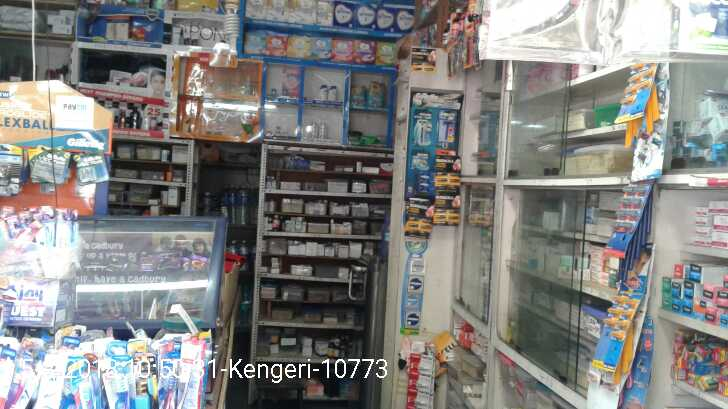beauty: (410, 109, 429, 145), (408, 155, 427, 190), (329, 82, 342, 105), (318, 115, 331, 138), (312, 84, 328, 102), (305, 120, 314, 142)
pharmacy: (367, 77, 387, 106), (351, 81, 366, 106)
